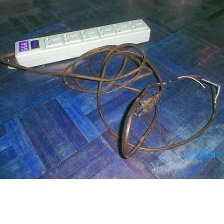three_eye_plug: (10, 15, 152, 71)
